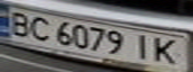0: (69, 22, 90, 51)
6: (51, 19, 75, 47)
7: (87, 25, 109, 53)
9: (103, 27, 130, 56)
B: (3, 9, 36, 37)
C: (24, 15, 54, 43)
I: (127, 32, 157, 61)
K: (148, 34, 187, 66)
